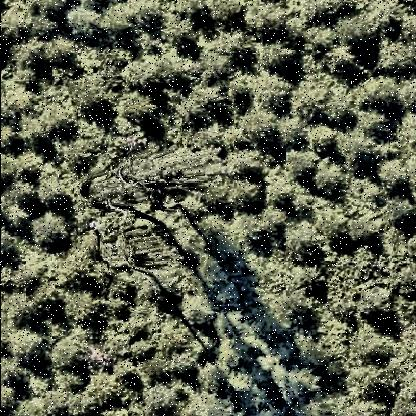tree-top: (335, 7, 383, 55), (116, 84, 162, 128), (249, 68, 297, 108), (193, 41, 233, 89), (311, 151, 353, 195), (101, 3, 147, 43), (285, 81, 330, 121), (308, 197, 350, 239), (260, 162, 302, 204), (6, 326, 46, 370), (318, 86, 360, 126), (268, 110, 308, 152), (245, 105, 283, 149), (350, 330, 398, 364), (39, 33, 77, 75), (287, 257, 329, 295), (359, 77, 403, 112), (60, 283, 100, 321), (338, 129, 380, 165), (355, 284, 399, 318), (283, 148, 327, 182), (241, 6, 293, 34), (322, 40, 360, 78), (141, 380, 181, 416), (66, 3, 106, 39), (283, 368, 319, 408), (87, 370, 123, 410), (164, 346, 202, 383), (287, 295, 325, 331), (1, 1, 34, 42), (34, 177, 71, 213), (34, 216, 76, 246), (259, 39, 295, 74), (189, 3, 234, 31), (155, 16, 193, 49), (223, 176, 263, 207), (256, 201, 292, 235), (375, 161, 409, 197), (162, 58, 198, 92), (52, 361, 86, 395), (68, 81, 104, 112), (343, 216, 381, 244)
